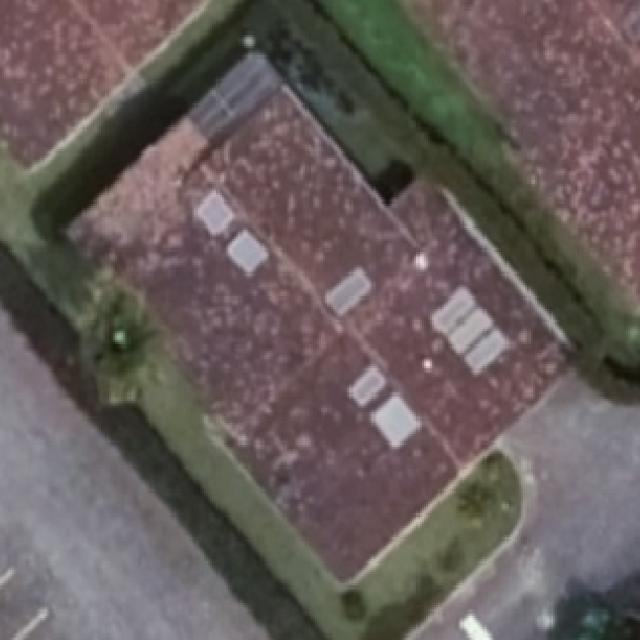Batiment: (72, 56, 566, 579)
